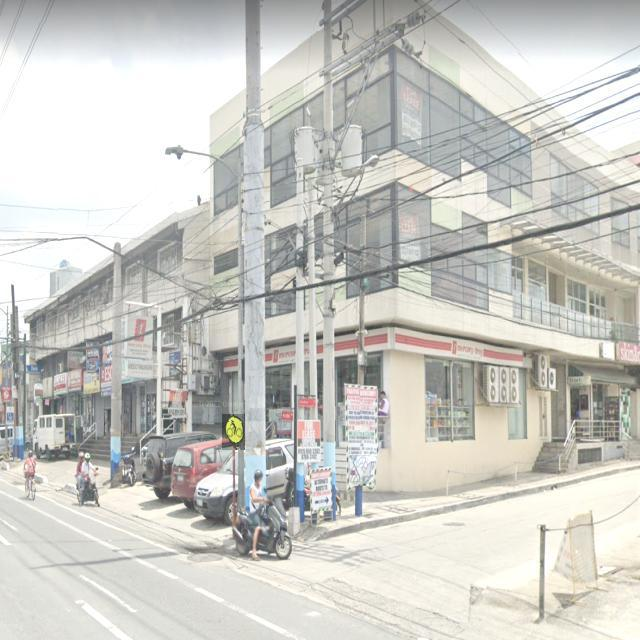bike lane: (222, 414, 245, 450)
